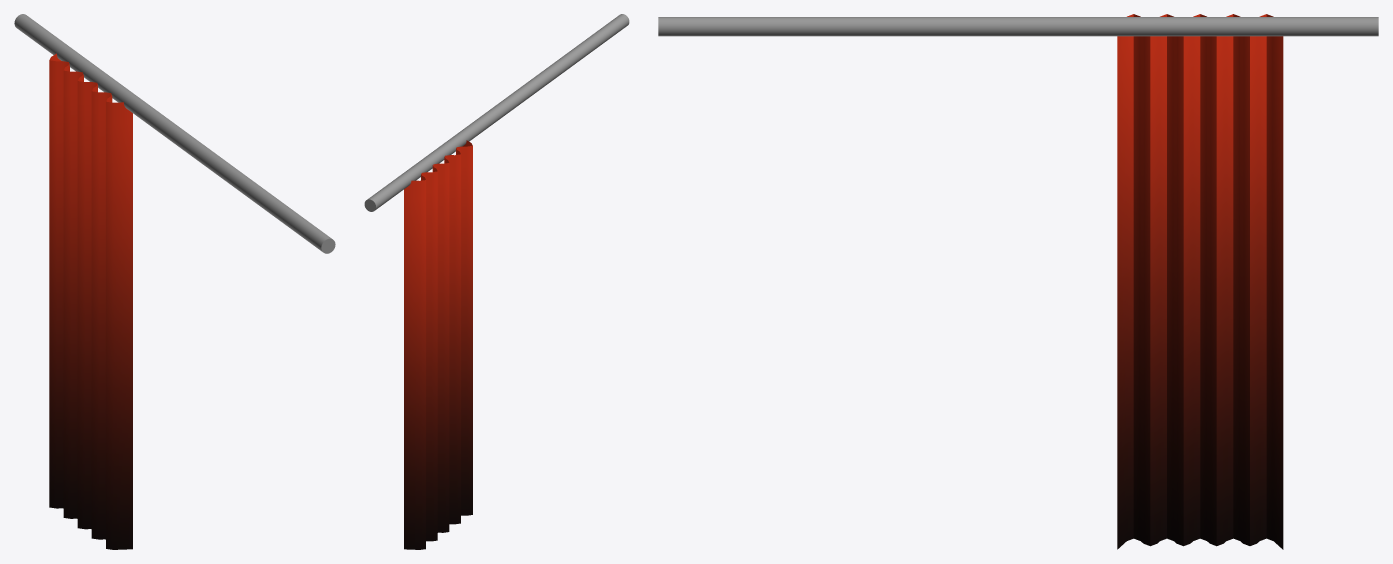
Rendered from vertical-blinds.glb.
3 renders of one model, left to right at view 1: azimuth 30°, elevation 25°; view 2: azimuth 150°, elevation 25°; view 3: azimuth 270°, elevation 25°, orthographic. The views are drawn at different scales.
Parts seen in each view (by area): view 1: Object_61, Object_62; view 2: Object_61, Object_62; view 3: Object_61, Object_62.
Part boxes in pixels (x1,y1,x2,y2): Object_61: (49, 53, 132, 549); Object_62: (14, 14, 335, 253); Object_61: (404, 140, 472, 549); Object_62: (364, 14, 629, 211); Object_61: (1117, 14, 1283, 549); Object_62: (658, 17, 1378, 36).
Size of the model in its own units: 0.1733 by 2.79 by 3.42.
2 materials, 2 textured.
